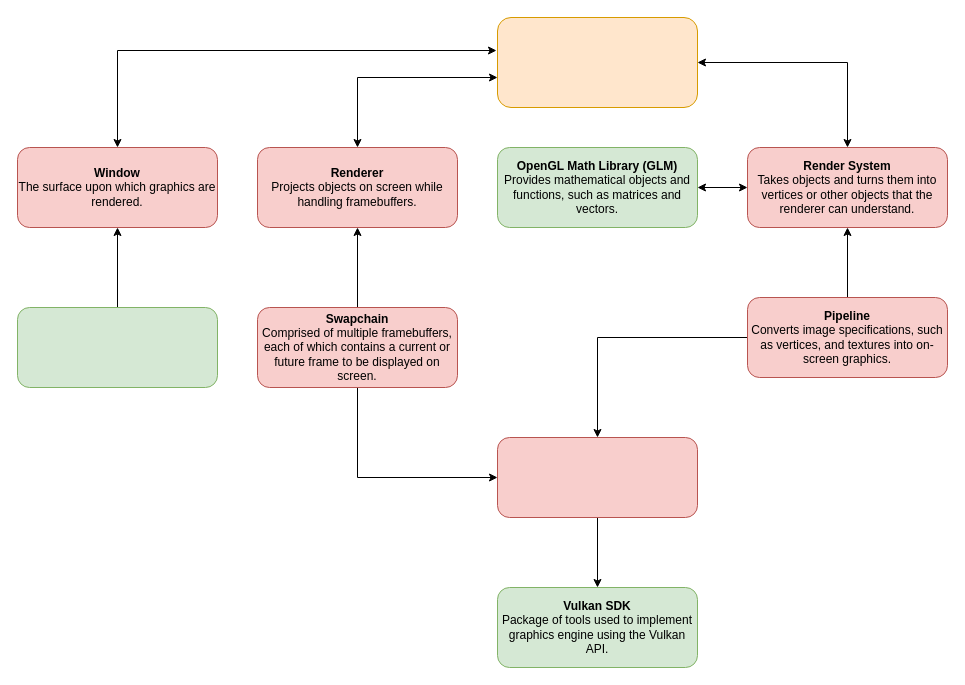
This 965x685 diagram has some shape labels left out. The centre of each missing label's shape, as x and y in pixels:
Device Determines GPU type and support before creating virtual device.: [597,477]
Engine: [597,62]
GLFW Handles cross-platform window and surface creation as well as user input.: [117,347]
